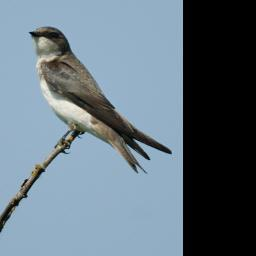Swallow: (28, 26, 173, 175)
